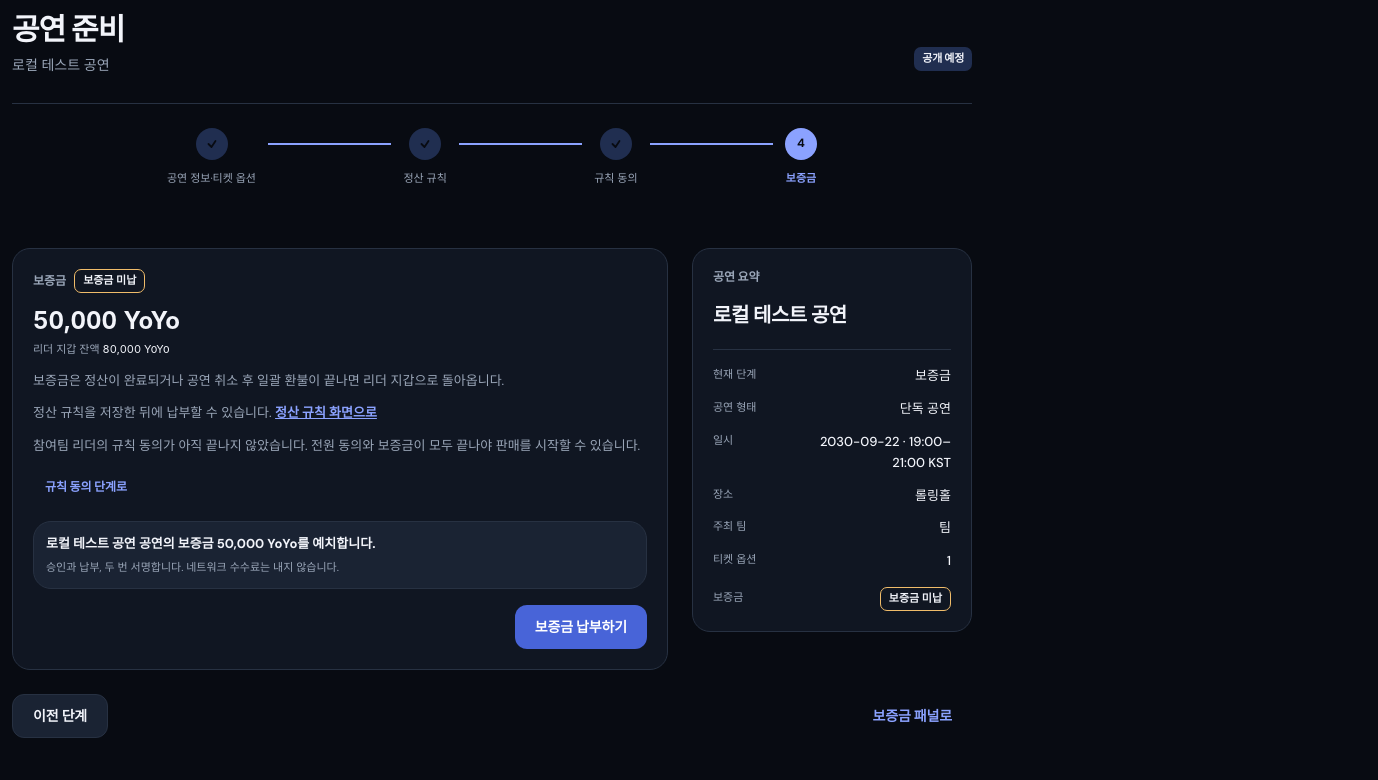
보증금 확정 실패 경로 › prepare 409 는 code 로 갈린다 › prepare 를 건너뛴 404 는 공연이 없다고 말하지 않는다
This screenshot has width=1378, height=780.
Step 1. Click the button "보증금 납부하기" → click(581, 627), box x1=515 y1=605 x2=647 y2=649
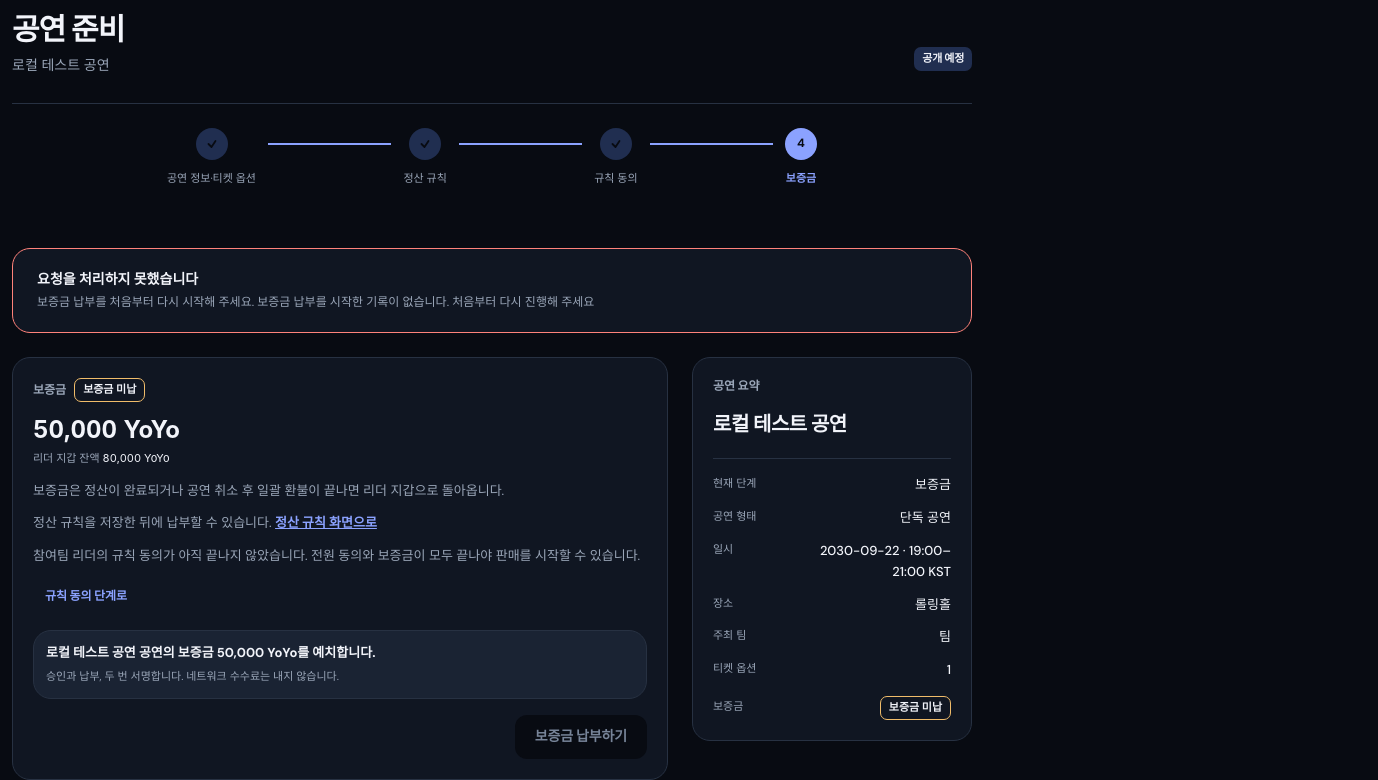
Now the text "보증금 납부를 처음부터 다시 시작해 주세요" is shown, box x1=37 y1=294 x2=594 y2=310
